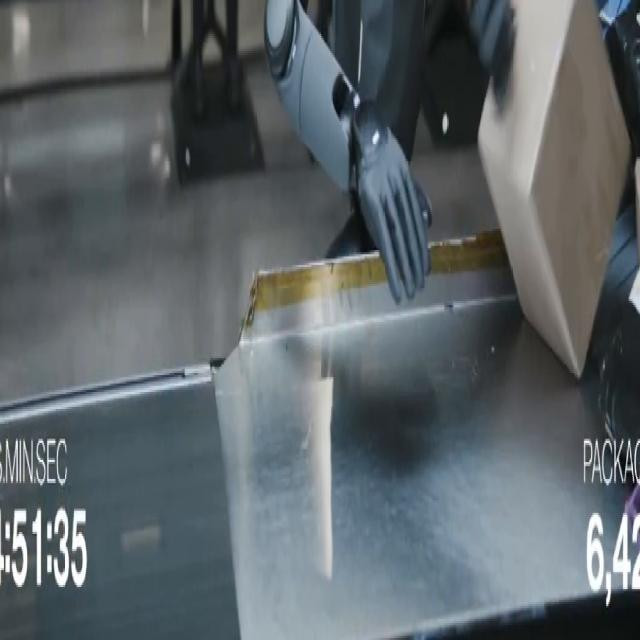package: (479, 0, 630, 377), (635, 159, 639, 258)
